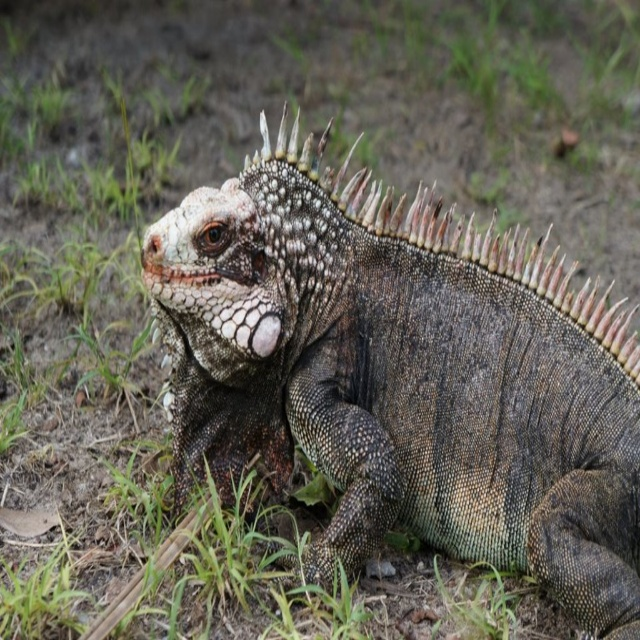Lizard: (140, 99, 640, 640)
